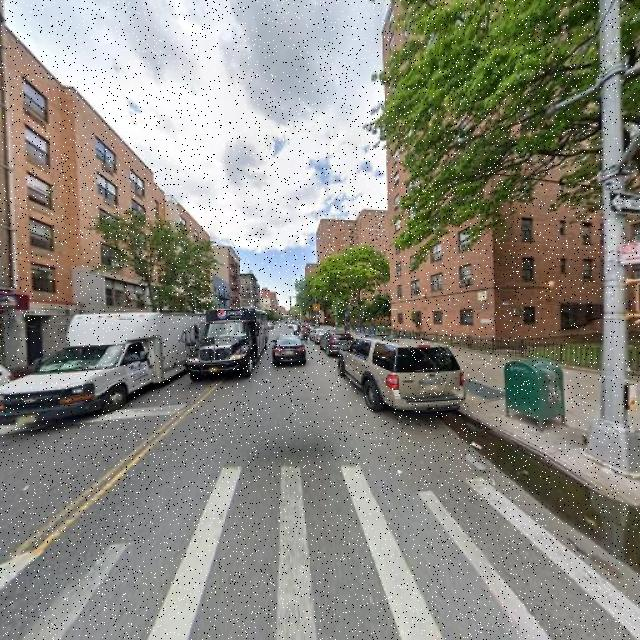Building: (394, 1, 615, 347), (10, 40, 165, 367), (1, 1, 4, 29)
